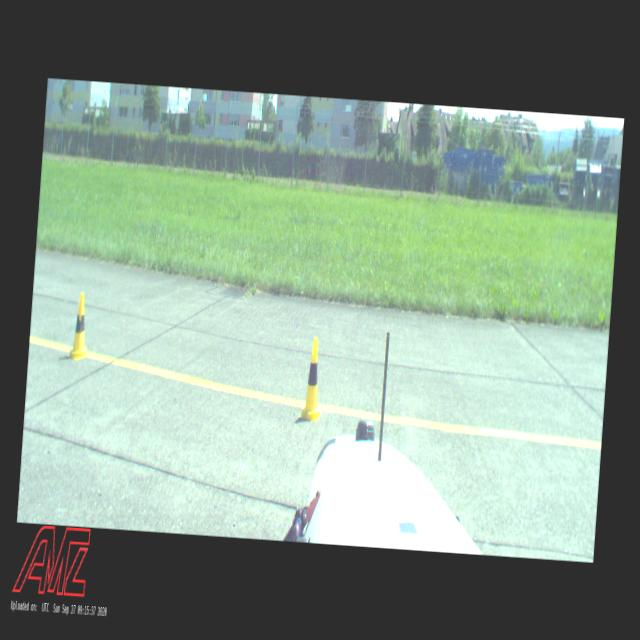yellow_cone: (298, 336, 326, 421), (66, 292, 90, 359)
